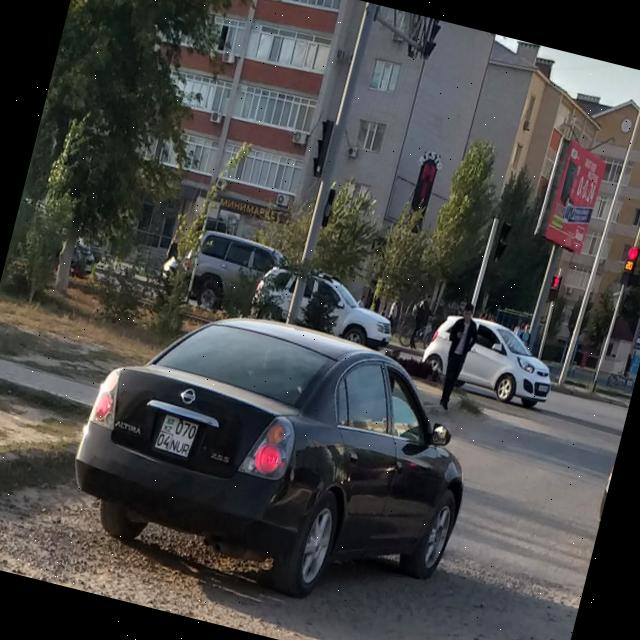License-plate: (150, 410, 203, 466)
